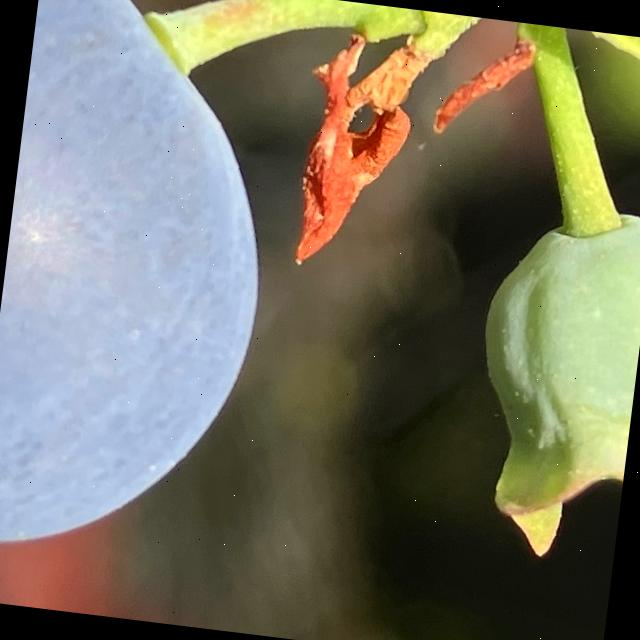Blueberries: (0, 0, 301, 581)
